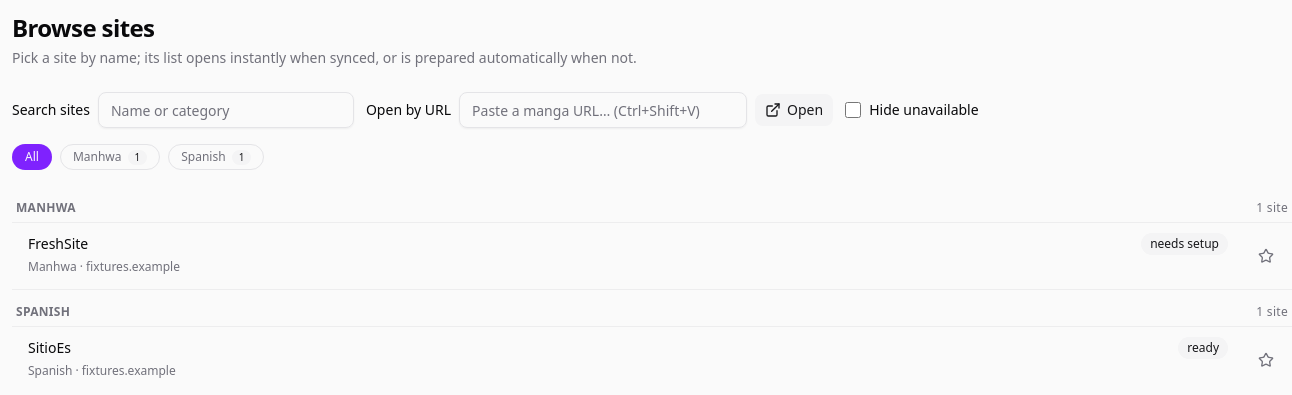
Test: SitePickerPage (browse default state) › empty category+search result explains itself
Expected: the text "FreshSite" is shown, [28,234,88,253]
Click the button "Spanish 1".
click(216, 157)  # box [168,144,264,170]
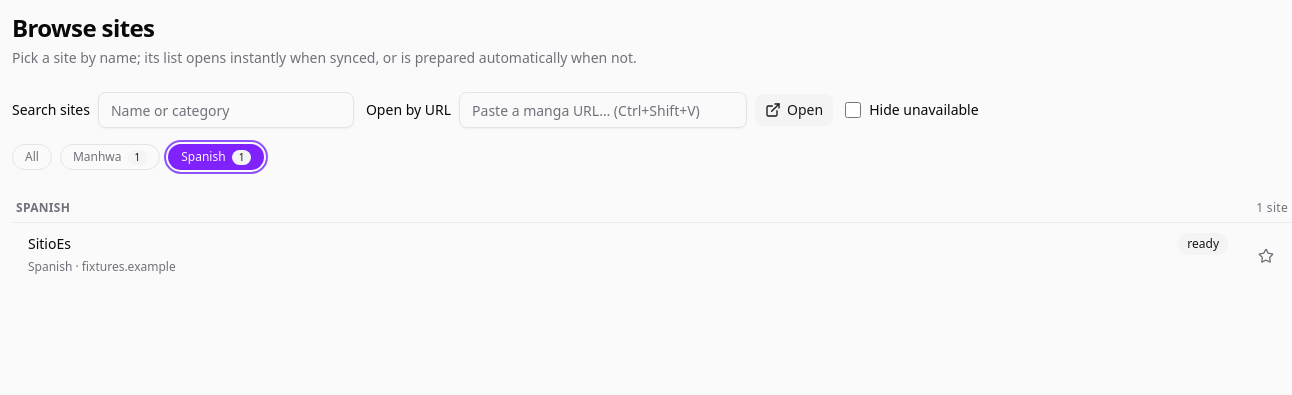
Expected: the button "FreshSite" is gone
Type "zzz" into the search field labelled "Search sites".
click(226, 110); type("zzz")  # box [98,92,354,128]
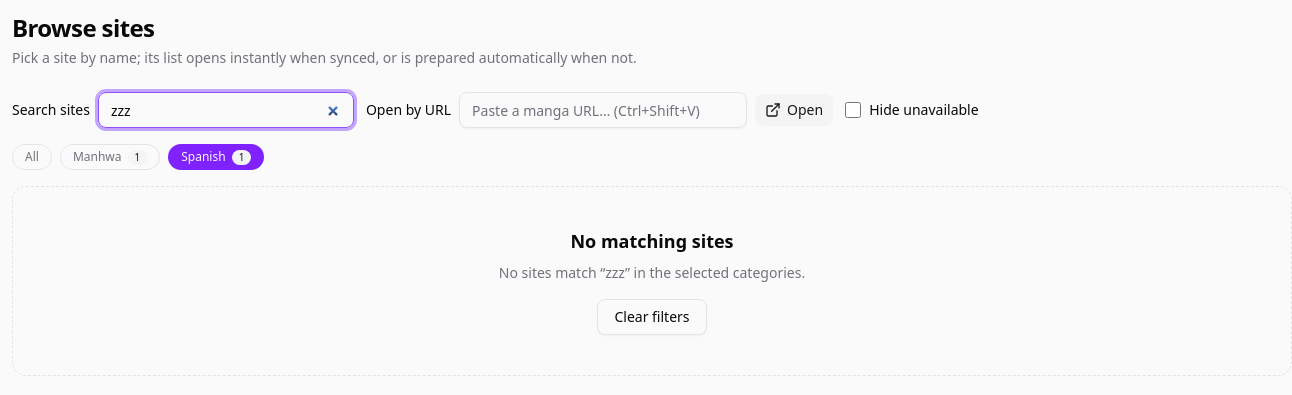
Expected: the text "No sites match “zzz” in the selected categories." is shown, [499,263,805,282]
